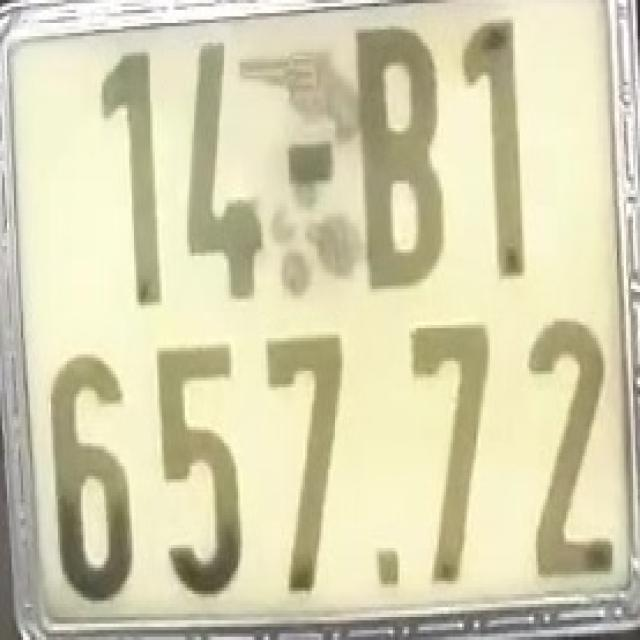1: (458, 10, 542, 279), (92, 39, 171, 308)
2: (519, 308, 618, 581)
4: (179, 29, 272, 308)
5: (150, 328, 250, 598)
6: (46, 347, 136, 602)
7: (401, 307, 495, 586), (262, 320, 350, 596)
B: (342, 13, 455, 296)
